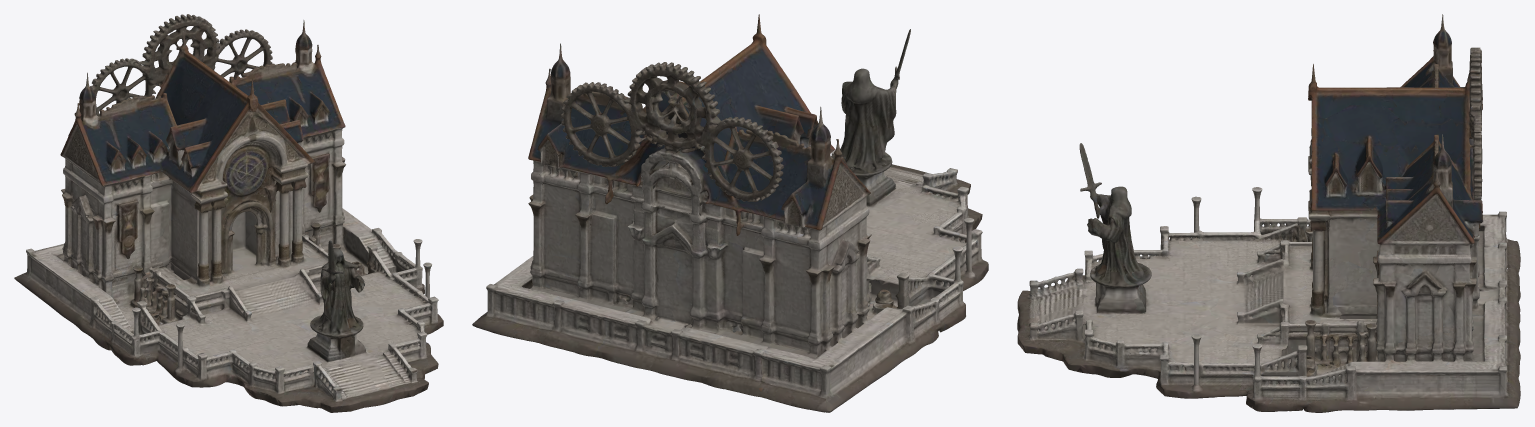
File: saalordnung.glb
3 renders of one model, left to right at view 1: azimuth 30°, elevation 25°; view 2: azimuth 150°, elevation 25°; view 3: azimuth 270°, elevation 25°, orthographic. The views are drawn at different scales.
Bounding box in the file's own units: 1.49 × 1.18 × 1.9.
1 material, 1 textured.
